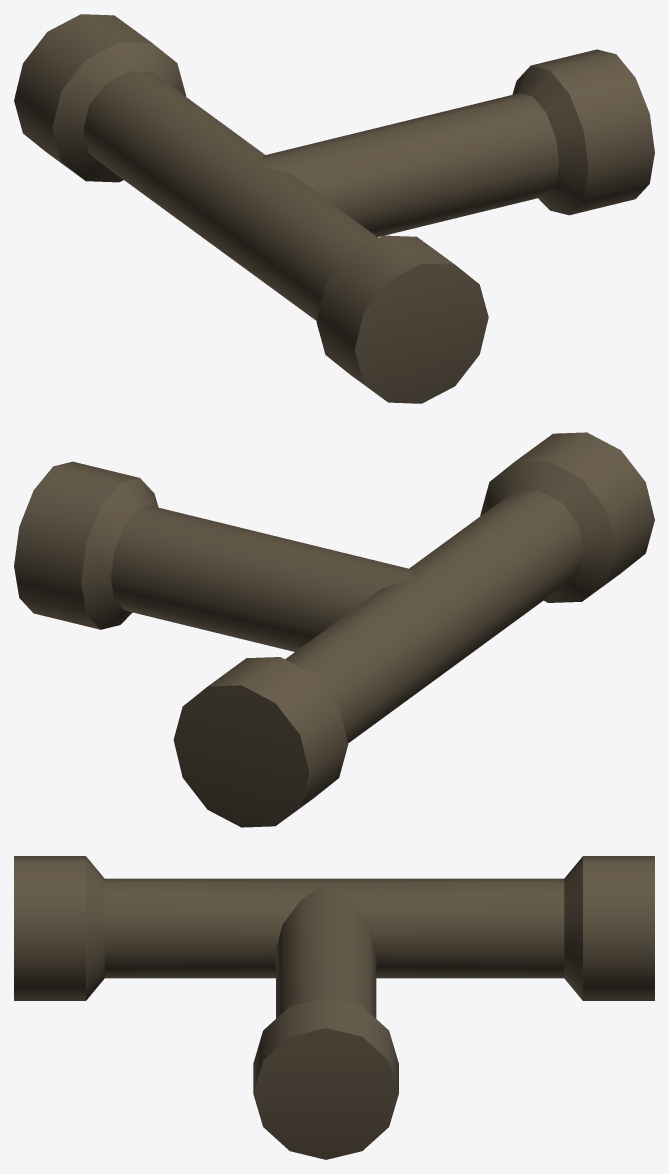
The model's file is Pipe_A_TJunc.fbx.
3 renders of one model, top to bottom at view 1: azimuth 30°, elevation 25°; view 2: azimuth 150°, elevation 25°; view 3: azimuth 270°, elevation 25°, orthographic. The views are drawn at different scales.
Parts seen in each view (by area): view 1: Pipe_A_TJunc; view 2: Pipe_A_TJunc; view 3: Pipe_A_TJunc.
Part boxes in pixels (x1,y1,x2,y2): Pipe_A_TJunc: [14, 14, 654, 403]; Pipe_A_TJunc: [14, 432, 654, 827]; Pipe_A_TJunc: [14, 856, 654, 1159].
Size of the model in its own units: 272 by 85.12 by 375.
